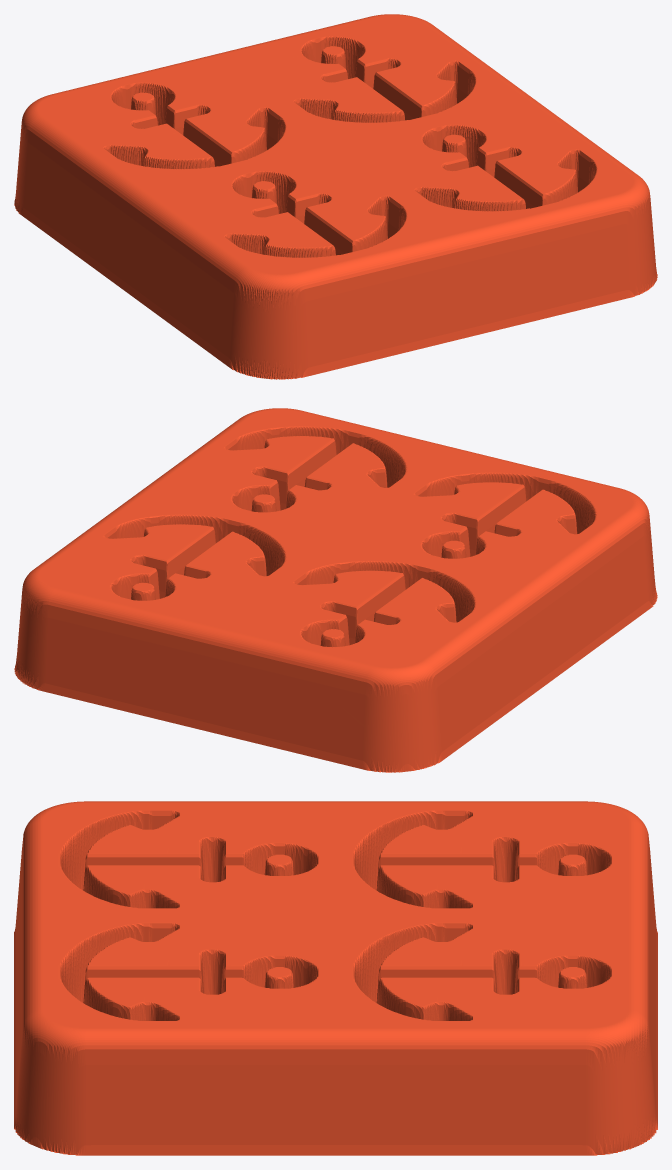
The model's file is mold.glb.
3 views of the same model, one above another, from view 1: azimuth 30°, elevation 25°; view 2: azimuth 150°, elevation 25°; view 3: azimuth 270°, elevation 25° (orthographic). The views are drawn at different scales.
Visible parts, largest first — view 1: geometry_0; view 2: geometry_0; view 3: geometry_0.
Boxes of the visible parts, <box> form: geometry_0: <box>14,14,657,379</box>; geometry_0: <box>14,408,657,772</box>; geometry_0: <box>14,801,657,1155</box>.
Size of the model in its own units: 0.074 by 0.0159 by 0.0808.
